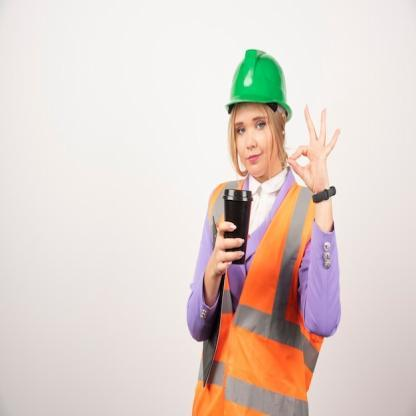ok: (284, 101, 342, 194)
